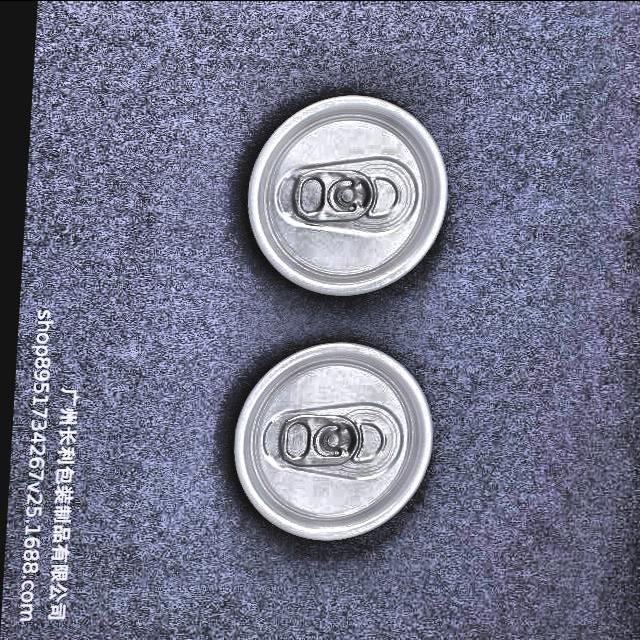litter: (230, 92, 456, 302), (222, 336, 444, 546)
